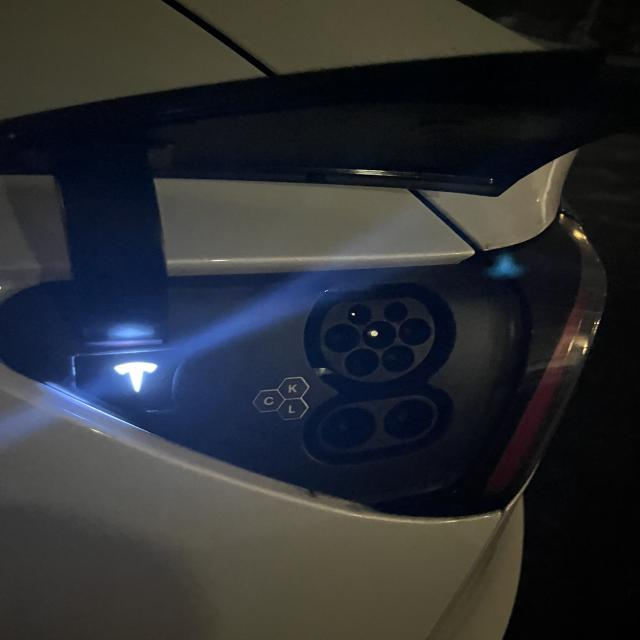inlet: (320, 297, 435, 382)
inlet-above-left: (348, 304, 372, 325)
inlet-above-right: (383, 301, 409, 322)
inlet-below-left: (344, 348, 379, 377)
inlet-below-right: (382, 345, 414, 372)
inlet-circle: (362, 320, 396, 350)
inlet-circle-left: (324, 323, 360, 352)
inlet-circle-right: (398, 317, 431, 346)
inlet-minus: (383, 399, 433, 439)
inlet-plus: (321, 407, 377, 448)
